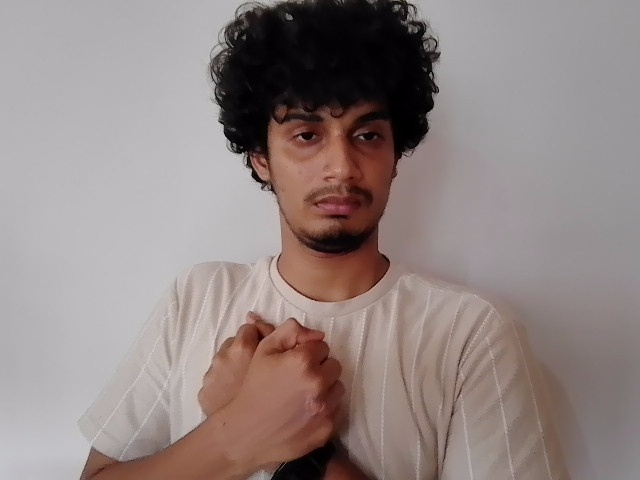love: (203, 309, 349, 456)
